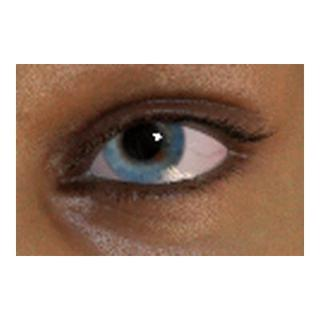pupil: (123, 122, 161, 160)
